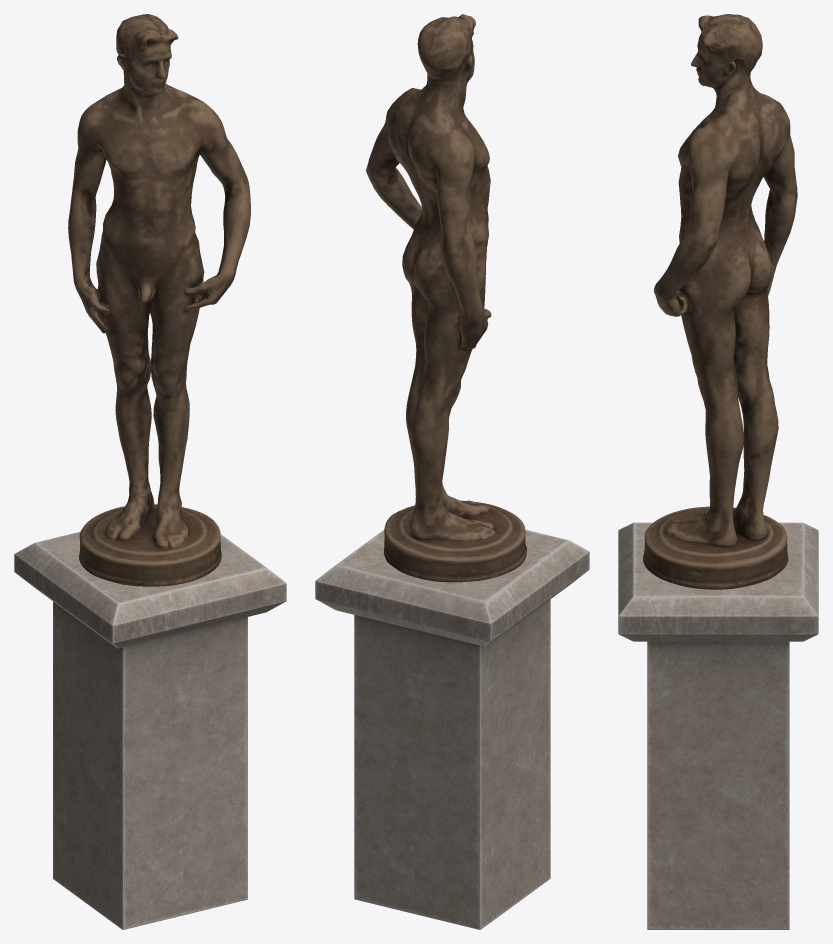
Rendered from Oarsman.glb.
The picture shows the model from 3 angles, left to right: view 1: azimuth 30°, elevation 25°; view 2: azimuth 150°, elevation 25°; view 3: azimuth 270°, elevation 25°; orthographic projection.
Visible parts, largest first — view 1: pCube3, Oarsman_low; view 2: pCube3, Oarsman_low; view 3: pCube3, Oarsman_low.
Part boxes in pixels (x1,y1,x2,y2): pCube3: (14, 506, 286, 929); Oarsman_low: (68, 14, 250, 586); pCube3: (315, 529, 589, 929); Oarsman_low: (366, 14, 526, 582); pCube3: (618, 522, 818, 929); Oarsman_low: (643, 14, 797, 589).
Bounding box in the file's own units: 0.3609 × 1.68 × 0.3455.
1 material, 1 textured.
